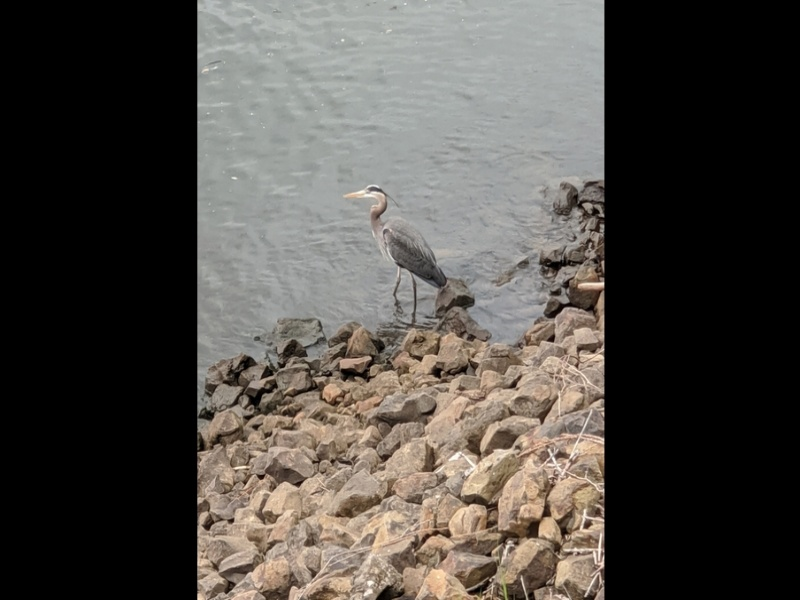heron: (343, 181, 450, 317)
